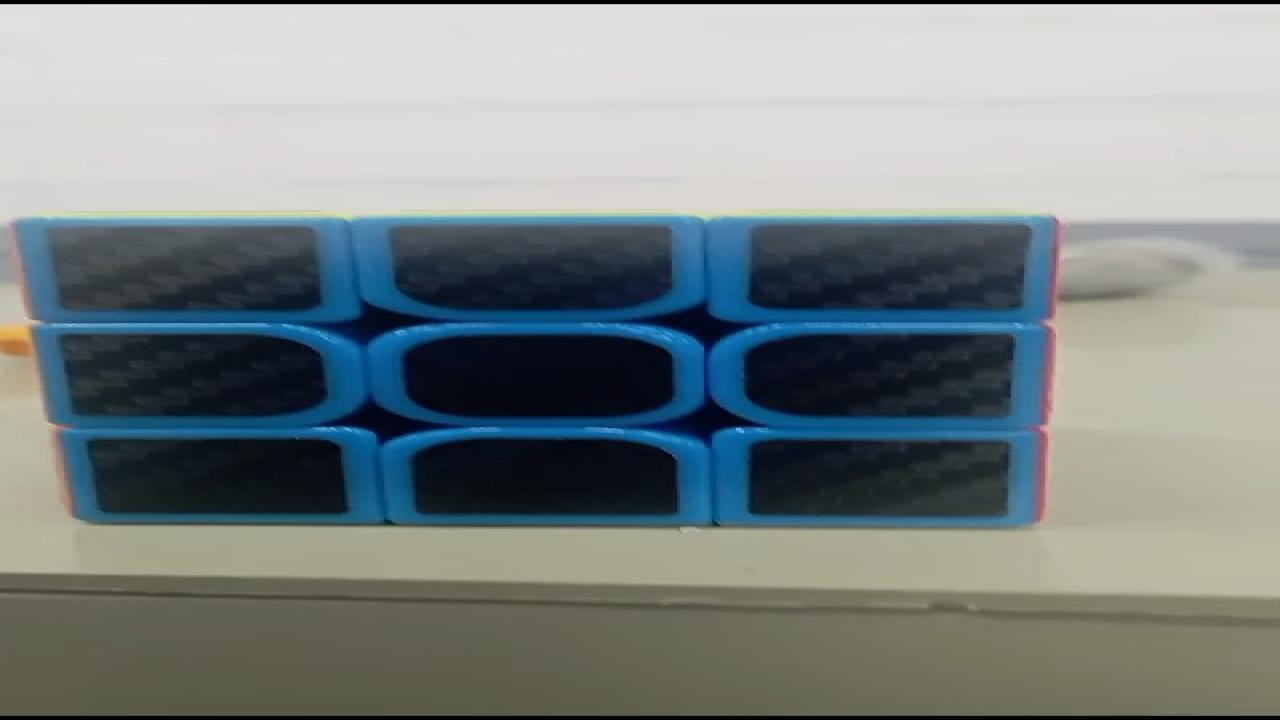Cube: (11, 208, 1066, 530)
